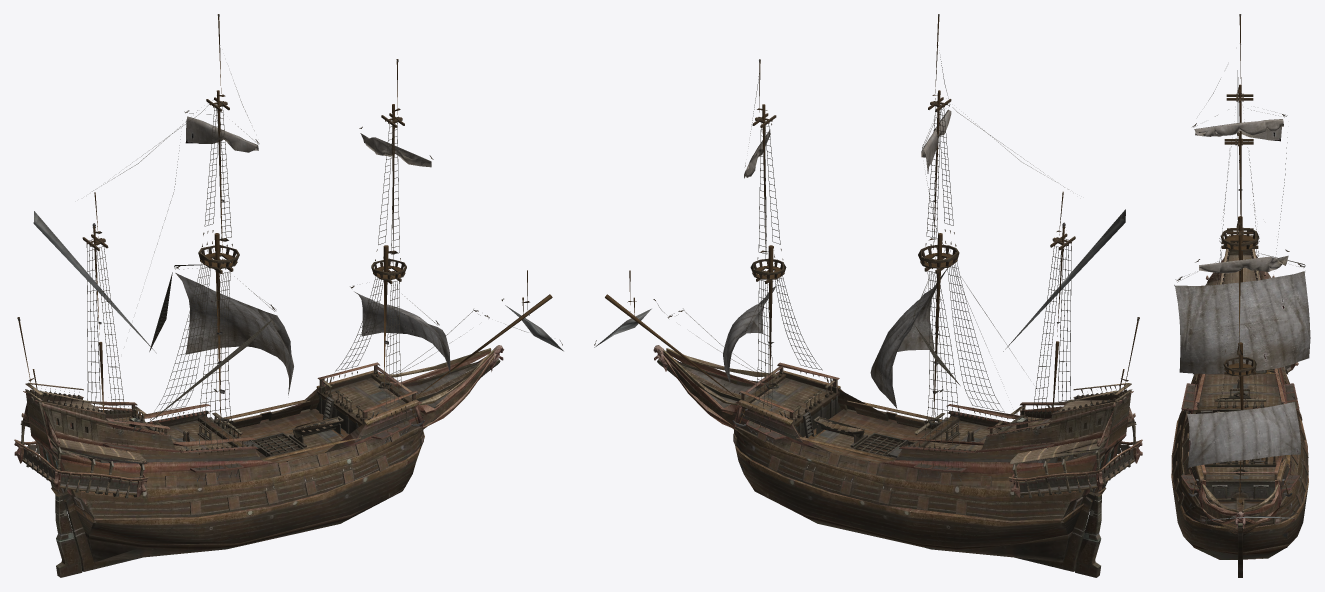
The model's file is ghost_ship.glb.
3 views of the same model, side by side, from view 1: azimuth 30°, elevation 25°; view 2: azimuth 150°, elevation 25°; view 3: azimuth 270°, elevation 25° (orthographic). The views are drawn at different scales.
Visible parts, largest first — view 1: dutch_ship_large_01_hull, dutch_ship_large_01_rigging, dutch_ship_large_01_sails; view 2: dutch_ship_large_01_hull, dutch_ship_large_01_rigging, dutch_ship_large_01_sails; view 3: dutch_ship_large_01_sails, dutch_ship_large_01_hull, dutch_ship_large_01_rigging.
Boxes of the visible parts, x1,y1,x2,y2 form: dutch_ship_large_01_hull: (14, 345, 504, 577); dutch_ship_large_01_rigging: (17, 14, 563, 482); dutch_ship_large_01_sails: (175, 116, 450, 395); dutch_ship_large_01_hull: (653, 345, 1142, 577); dutch_ship_large_01_rigging: (594, 14, 1139, 481); dutch_ship_large_01_sails: (723, 109, 951, 408); dutch_ship_large_01_sails: (1175, 119, 1310, 467); dutch_ship_large_01_hull: (1171, 235, 1308, 577); dutch_ship_large_01_rigging: (1174, 14, 1305, 521).
Bounding box in the file's own units: 34.21 × 32.05 × 8.32.
3 materials, 3 textured.
